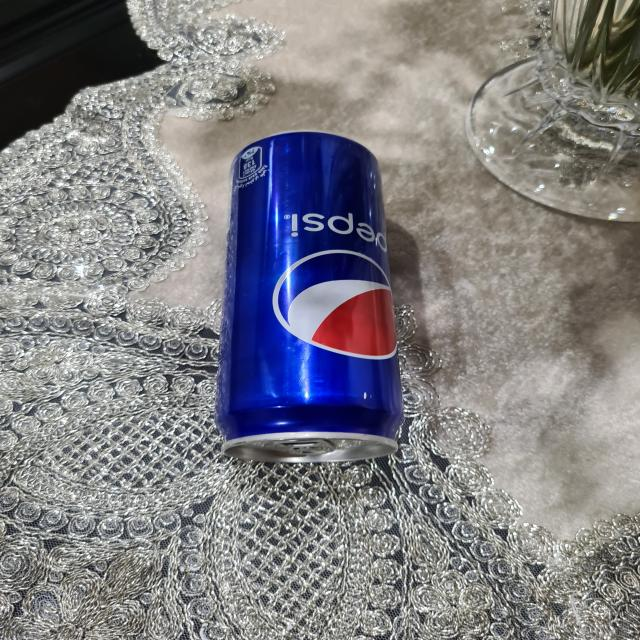non-organic waste: (219, 126, 406, 472)
